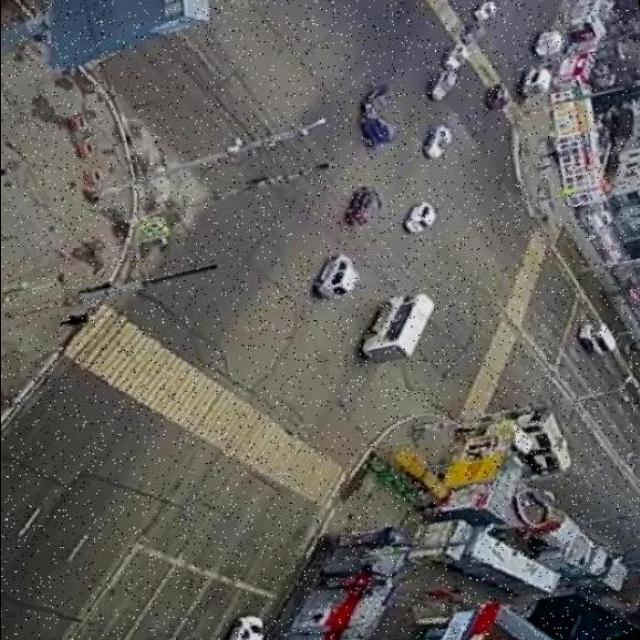accident: (344, 79, 410, 152)
